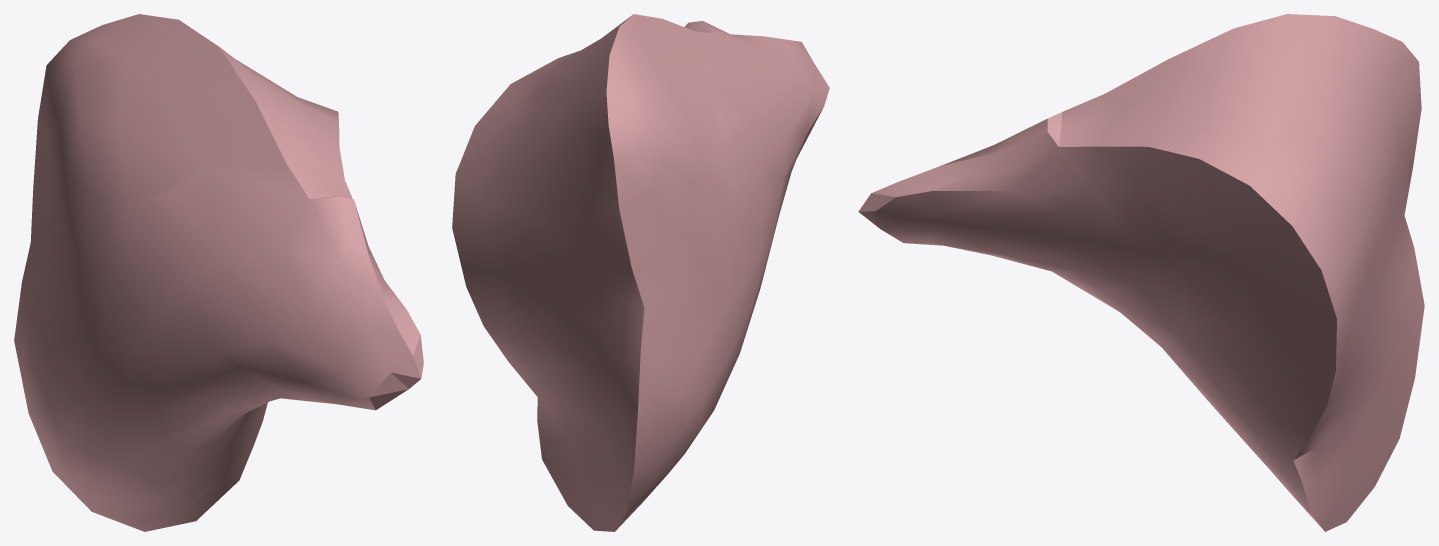
Rendered from fma75767-r_mm1017m.glb.
3 renders of one model, left to right at view 1: azimuth 30°, elevation 25°; view 2: azimuth 150°, elevation 25°; view 3: azimuth 270°, elevation 25°, orthographic. The views are drawn at different scales.
Parts seen in each view (by area): view 1: FMA75767-R_MM1017M; view 2: FMA75767-R_MM1017M; view 3: FMA75767-R_MM1017M.
Part boxes in pixels (left/top/right/bottom): FMA75767-R_MM1017M: left=14, top=14, right=423, bottom=531; FMA75767-R_MM1017M: left=452, top=14, right=829, bottom=531; FMA75767-R_MM1017M: left=858, top=14, right=1424, bottom=531.
Bounding box in the file's own units: 0.000925 × 0.00172 × 0.00173.
